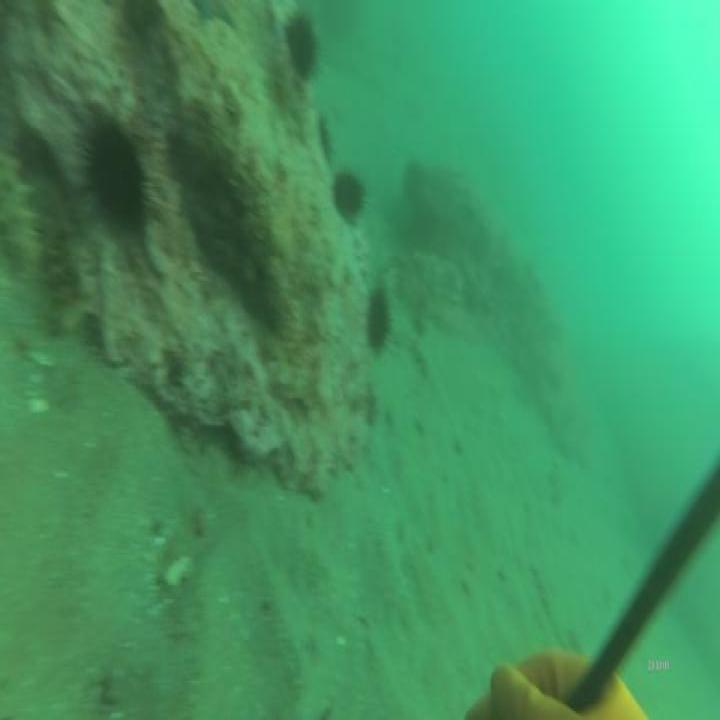echinus: (69, 98, 165, 252), (281, 9, 324, 82), (330, 166, 371, 230), (367, 277, 395, 361), (121, 7, 171, 41)
holothurian: (0, 144, 47, 279)
starfish: (190, 0, 239, 32)
